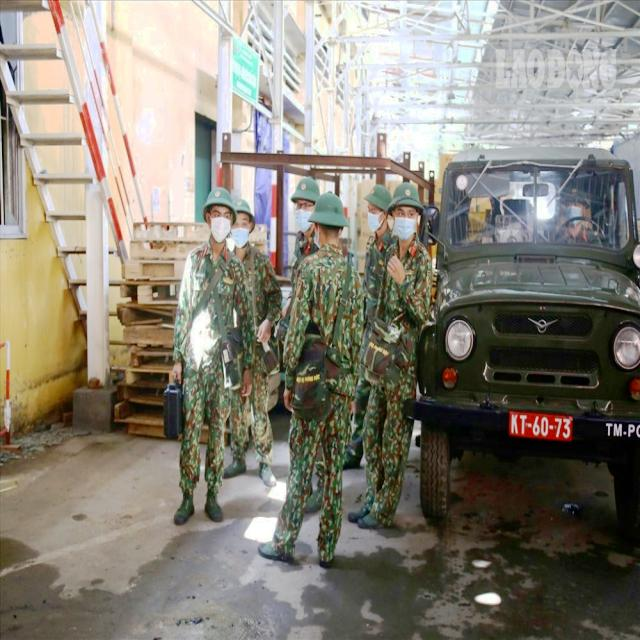license_plate: (512, 410, 576, 442)
